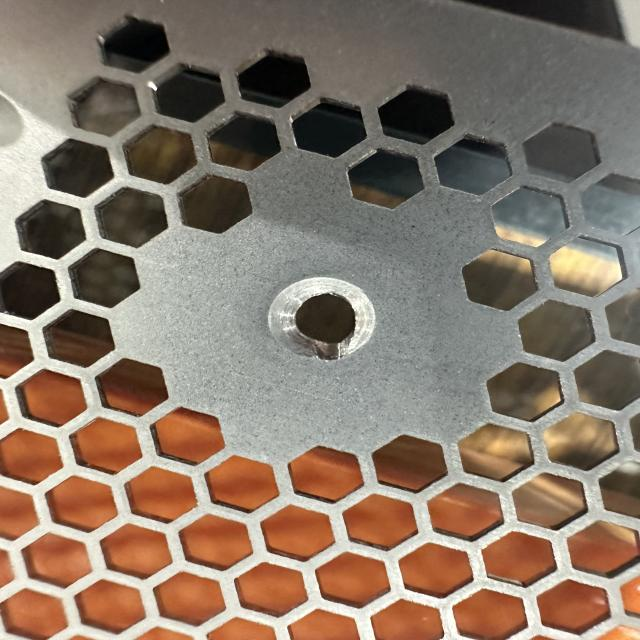Missing screw: (262, 272, 386, 368)
